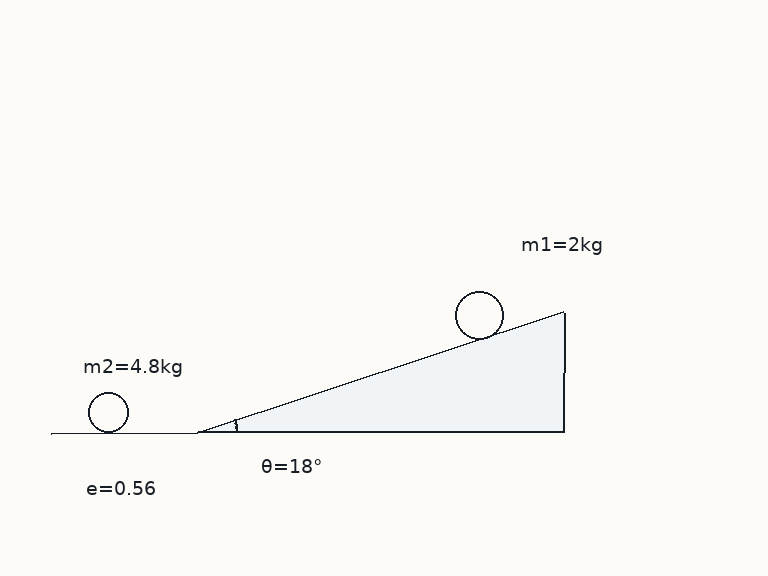ball: (453, 289, 505, 341), (86, 390, 130, 434)
ramp: (195, 311, 565, 434)
